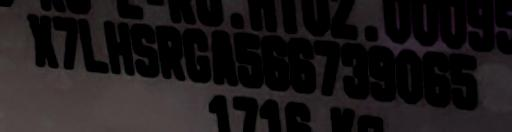letter: (24, 12, 60, 68), (100, 19, 134, 75), (232, 31, 264, 87), (448, 53, 480, 109), (79, 16, 109, 72), (156, 23, 186, 79), (181, 26, 211, 82), (312, 36, 340, 96), (129, 21, 159, 75), (285, 38, 315, 92), (366, 45, 396, 99), (418, 51, 448, 105), (210, 29, 238, 85), (262, 32, 288, 91), (341, 43, 369, 97), (394, 48, 422, 102), (54, 13, 80, 67)
